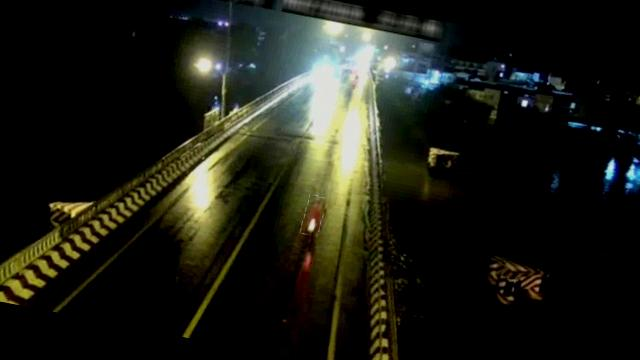Bike: (300, 194, 326, 237)
